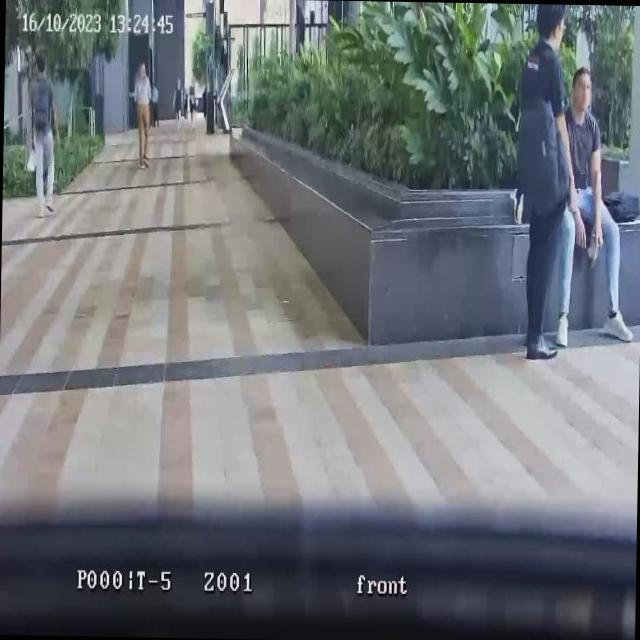person: (512, 3, 588, 360), (558, 64, 638, 346), (27, 50, 62, 216), (132, 61, 152, 170), (149, 80, 159, 128), (172, 80, 182, 128), (186, 90, 195, 121), (182, 88, 188, 119)
